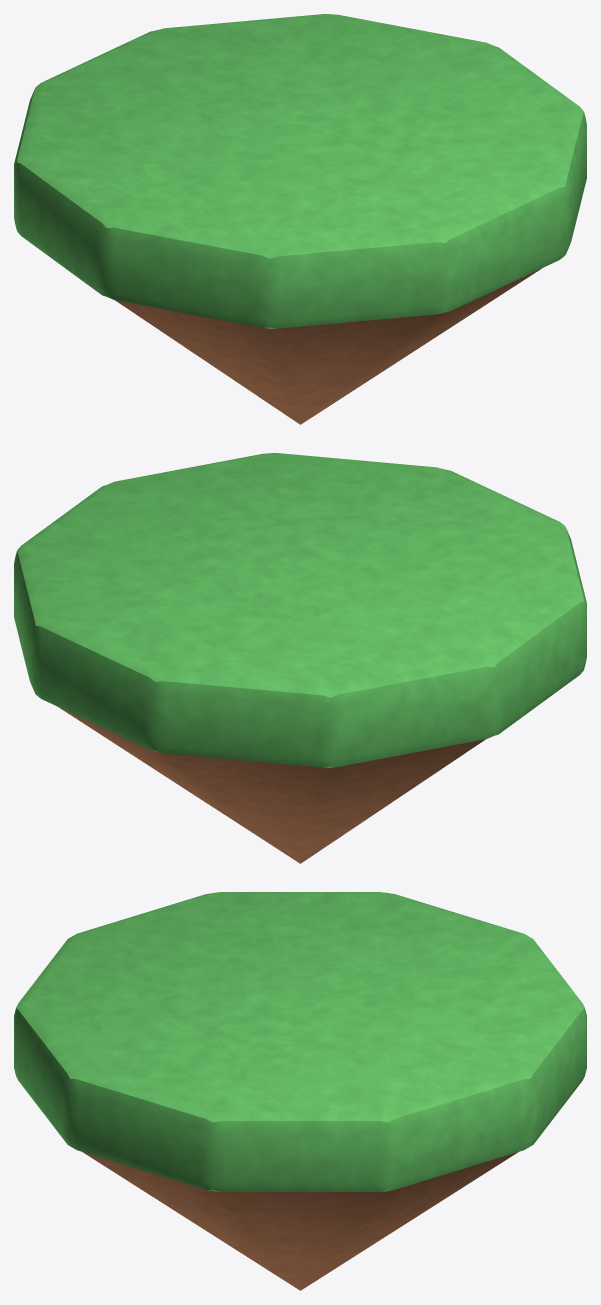
Rendered from platform.fbx.
3 views of the same model, one above another, from view 1: azimuth 30°, elevation 25°; view 2: azimuth 150°, elevation 25°; view 3: azimuth 270°, elevation 25° (orthographic).
Parts seen in each view (by area): view 1: Platform; view 2: Platform; view 3: Platform.
Boxes of the visible parts, x1,y1,x2,y2 form: Platform: (14, 14, 586, 424); Platform: (14, 453, 586, 863); Platform: (14, 892, 586, 1290).
Bounding box in the file's own units: 3.8 × 2.2 × 3.96.
1 material, 1 textured.
